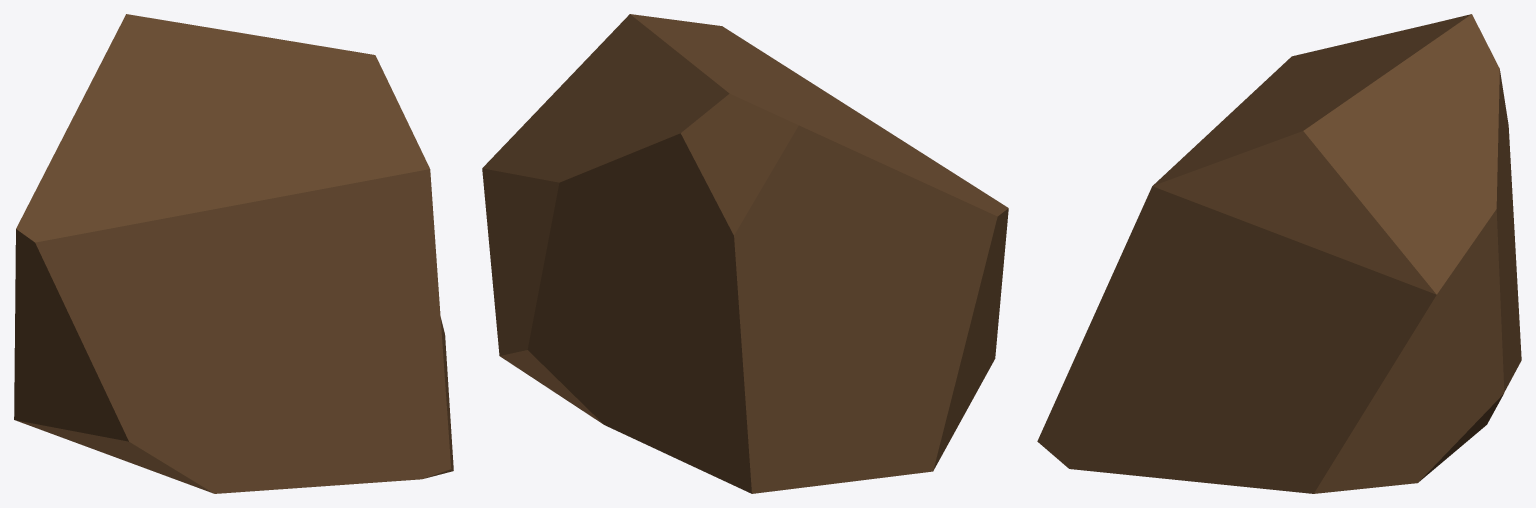
The model's file is stone-small_brown.glb.
3 views of the same model, side by side, from view 1: azimuth 30°, elevation 25°; view 2: azimuth 150°, elevation 25°; view 3: azimuth 270°, elevation 25° (orthographic). The views are drawn at different scales.
Parts seen in each view (by area): view 1: stone-small_brown; view 2: stone-small_brown; view 3: stone-small_brown.
Boxes of the visible parts, box(x1,y1,x2,y2) form: stone-small_brown: box(14, 14, 453, 493); stone-small_brown: box(482, 14, 1008, 493); stone-small_brown: box(1037, 14, 1521, 493).
Size of the model in its own units: 0.6359 by 0.5069 by 0.5837.
